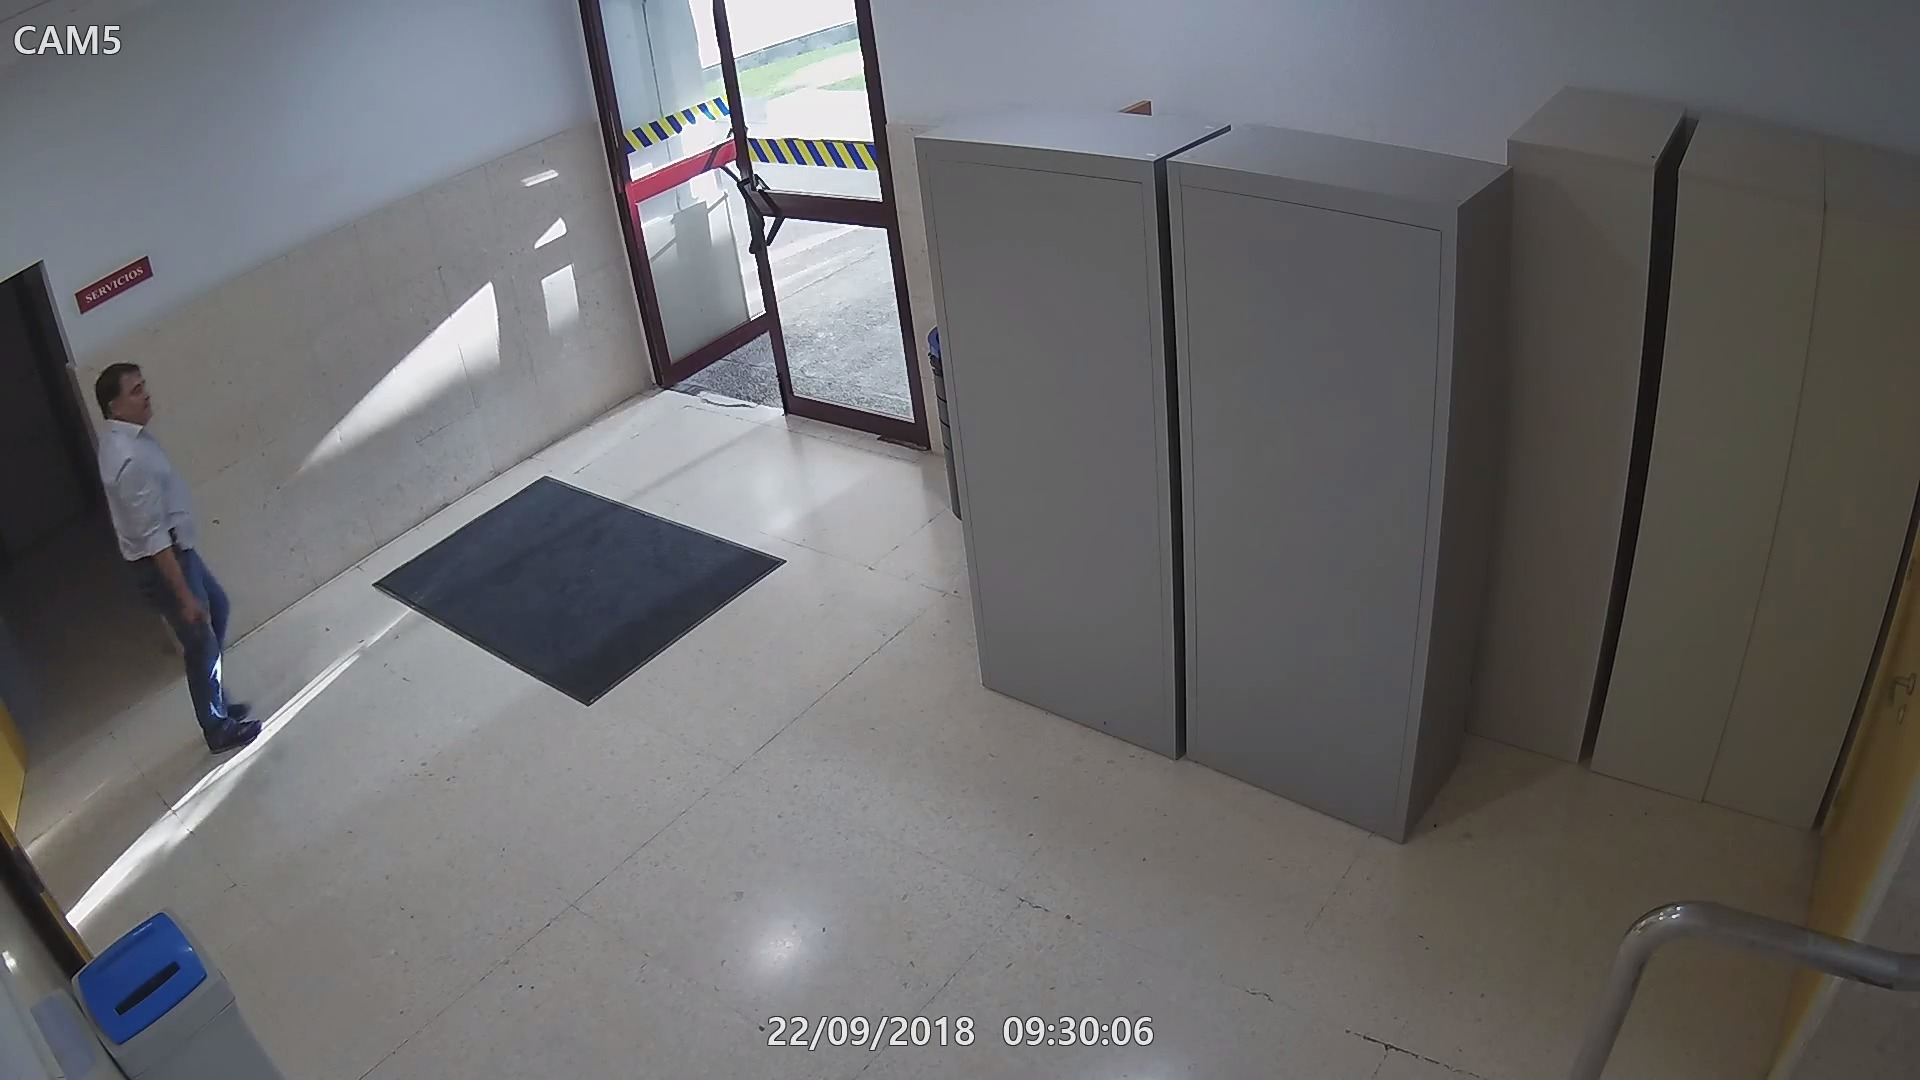Handgun: (173, 597, 219, 649)
